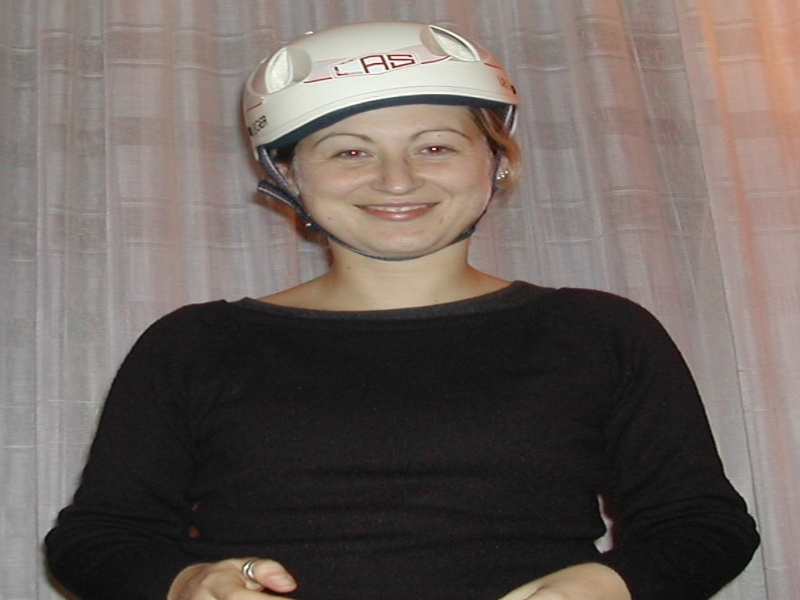Baret: (243, 22, 521, 138)
